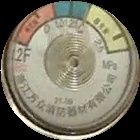green: (54, 1, 92, 21)
red: (15, 3, 56, 47)
yellow: (87, 5, 131, 52)
